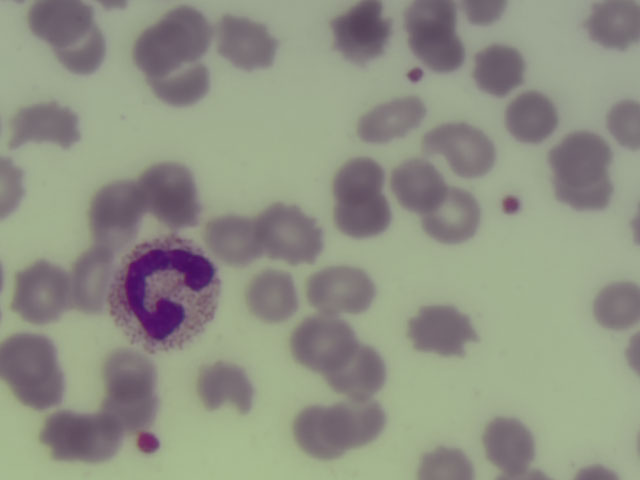Platelets: (131, 426, 165, 458), (400, 62, 429, 87), (499, 193, 524, 216)
RBC: (259, 201, 324, 261), (70, 242, 119, 315), (354, 93, 423, 144), (23, 1, 92, 46), (309, 268, 376, 313), (441, 126, 500, 174), (13, 102, 74, 147), (1, 150, 40, 218), (555, 129, 612, 175), (334, 157, 386, 205), (336, 192, 388, 240), (416, 304, 468, 352), (588, 279, 640, 327), (505, 93, 557, 141), (472, 46, 524, 94), (412, 26, 464, 74), (334, 5, 386, 53), (291, 409, 343, 457), (329, 399, 381, 447), (334, 347, 386, 395), (297, 318, 349, 366), (246, 273, 298, 321), (208, 215, 260, 263), (200, 361, 252, 409), (103, 349, 155, 397), (101, 386, 153, 434), (71, 414, 123, 462), (35, 409, 87, 457), (13, 365, 65, 413), (14, 266, 66, 314), (89, 187, 141, 235), (145, 168, 197, 216), (220, 22, 272, 70), (154, 56, 206, 104), (126, 25, 178, 73), (161, 8, 213, 56), (54, 26, 106, 74), (392, 159, 444, 207), (424, 190, 476, 238), (482, 420, 534, 468), (417, 438, 477, 479), (1, 333, 52, 381), (588, 1, 640, 48), (558, 170, 613, 210), (607, 98, 640, 153), (404, 1, 458, 34)
WBC: (116, 235, 218, 354)
